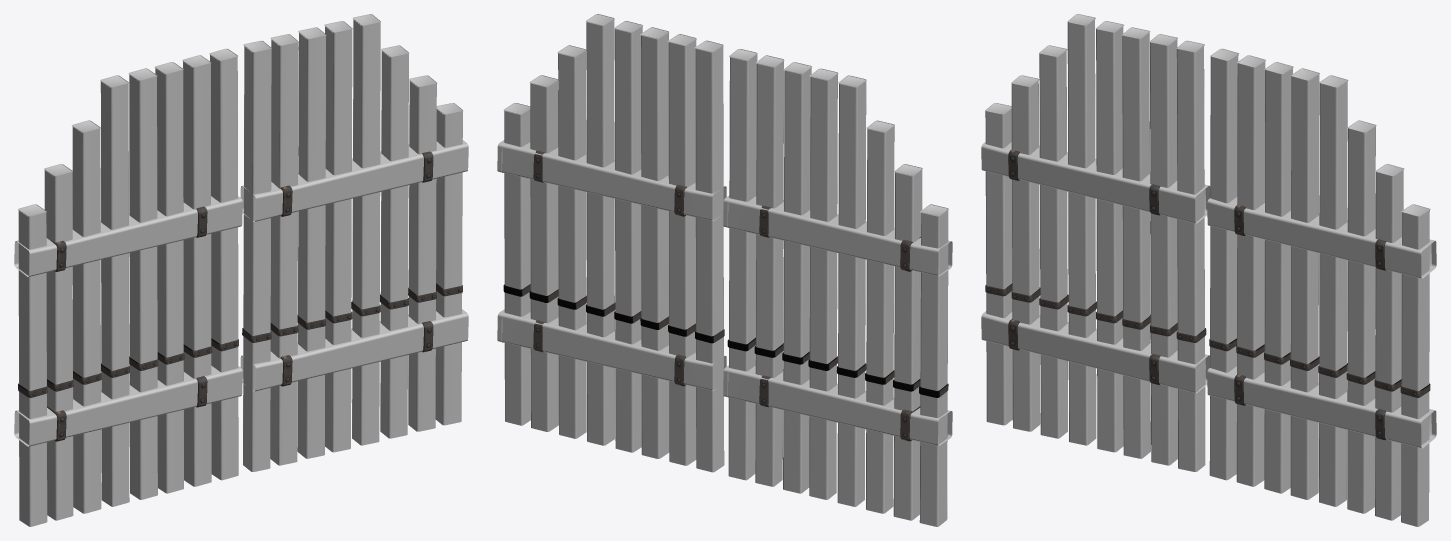
The model's file is Door.fbx.
The picture shows the model from 3 angles, left to right: view 1: azimuth 30°, elevation 25°; view 2: azimuth 150°, elevation 25°; view 3: azimuth 330°, elevation 25°; orthographic projection.
Parts seen in each view (by area): view 1: Gate, Gate.003, Gate.005, Gate.002, Gate.004; view 2: Gate, Gate.003, Gate.005, Gate.004, Gate.002; view 3: Gate, Gate.002, Gate.004, Gate.005, Gate.003.
Boxes of the visible parts, box(x1,y1,x2,y2) form: Gate: box(17, 14, 463, 526); Gate.003: box(14, 365, 242, 446); Gate.005: box(14, 196, 242, 276); Gate.002: box(240, 309, 468, 391); Gate.004: box(240, 140, 468, 221); Gate: box(503, 14, 948, 526); Gate.003: box(723, 365, 952, 445); Gate.005: box(723, 195, 952, 276); Gate.004: box(497, 140, 726, 221); Gate.002: box(497, 309, 726, 390); Gate: box(985, 14, 1430, 526); Gate.002: box(1207, 366, 1436, 448); Gate.004: box(1207, 197, 1436, 278); Gate.005: box(981, 142, 1210, 223); Gate.003: box(981, 311, 1209, 393).
Size of the model in its own units: 553 by 505 by 40.02.
